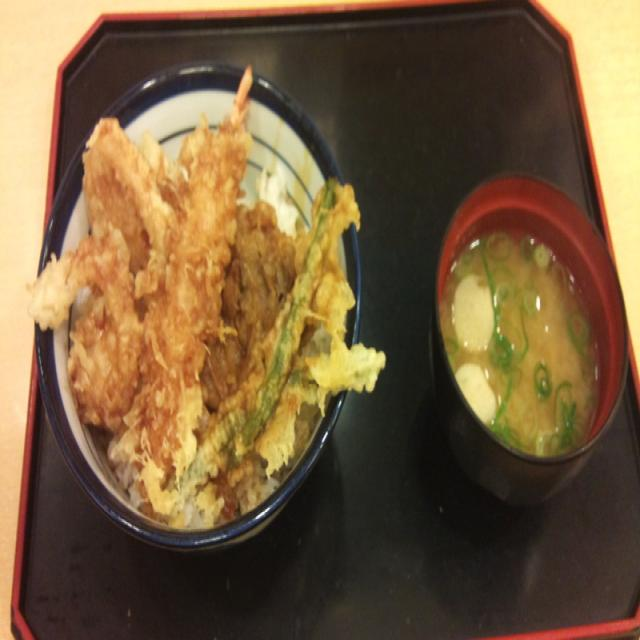汤锅炖物: (438, 188, 617, 478)
熟制海鲜: (44, 66, 381, 538)
